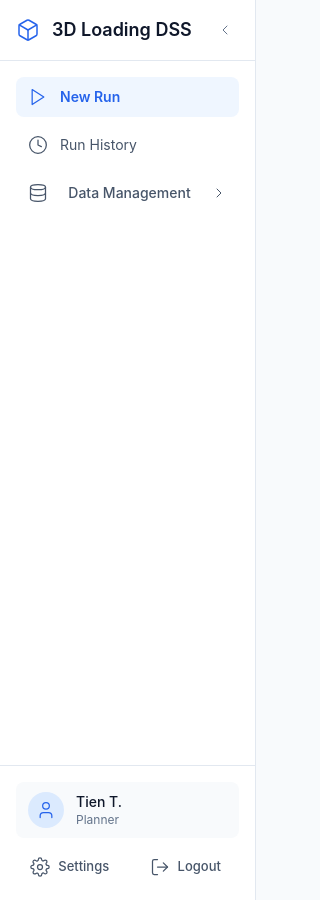
Navigation Structure (Section 6.1 - FE-01 to FE-03b) › FE-03: Data Management groups Item Master and Containers
The image size is (320, 900).
Click the button "Data Management" at (128,193), box [16,173,239,213]
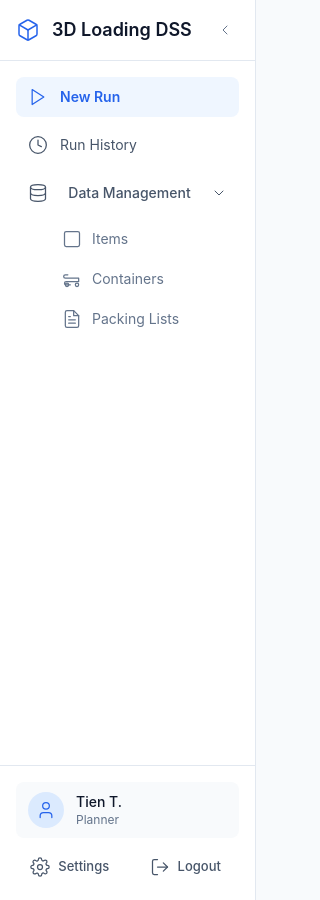
Expected: the link "Items" is shown, [62,229,128,249]
Expected: the link "Containers" is shown, [62,269,164,289]
